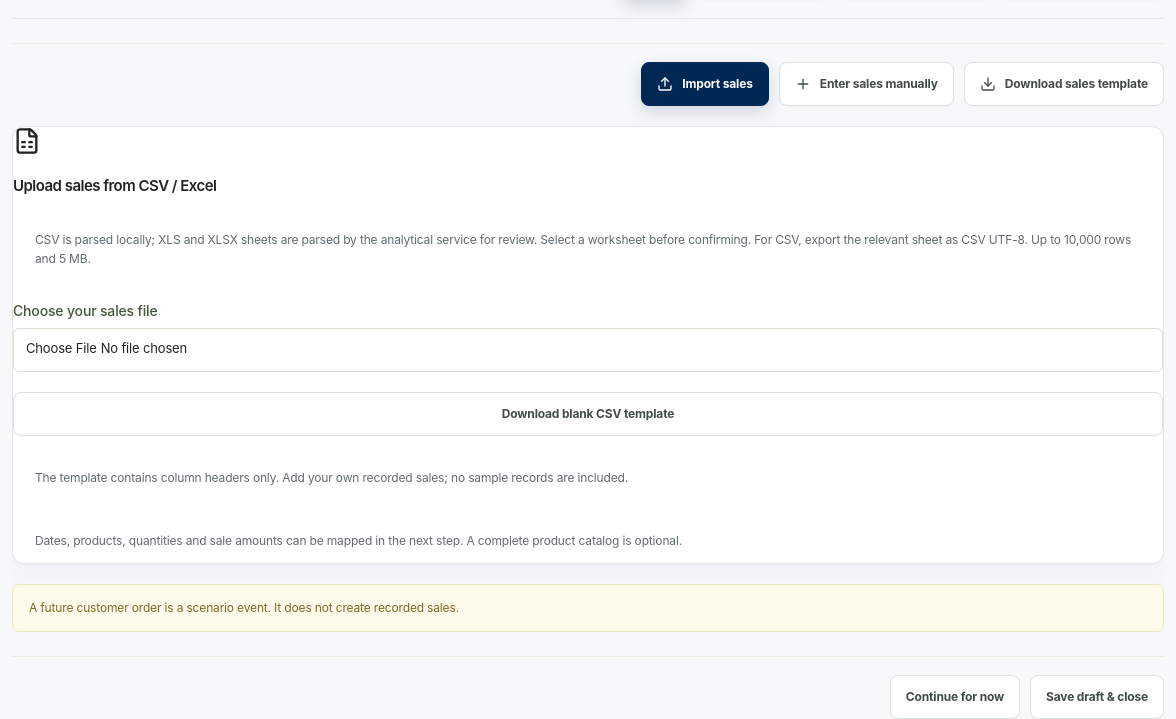
it: onboarding confirmation boundaries › defers without claiming a first analysis
(page scrolled)
Click the button "Continue for now" at (955, 697), box x1=890 y1=675 x2=1020 y2=718
(page scrolled)
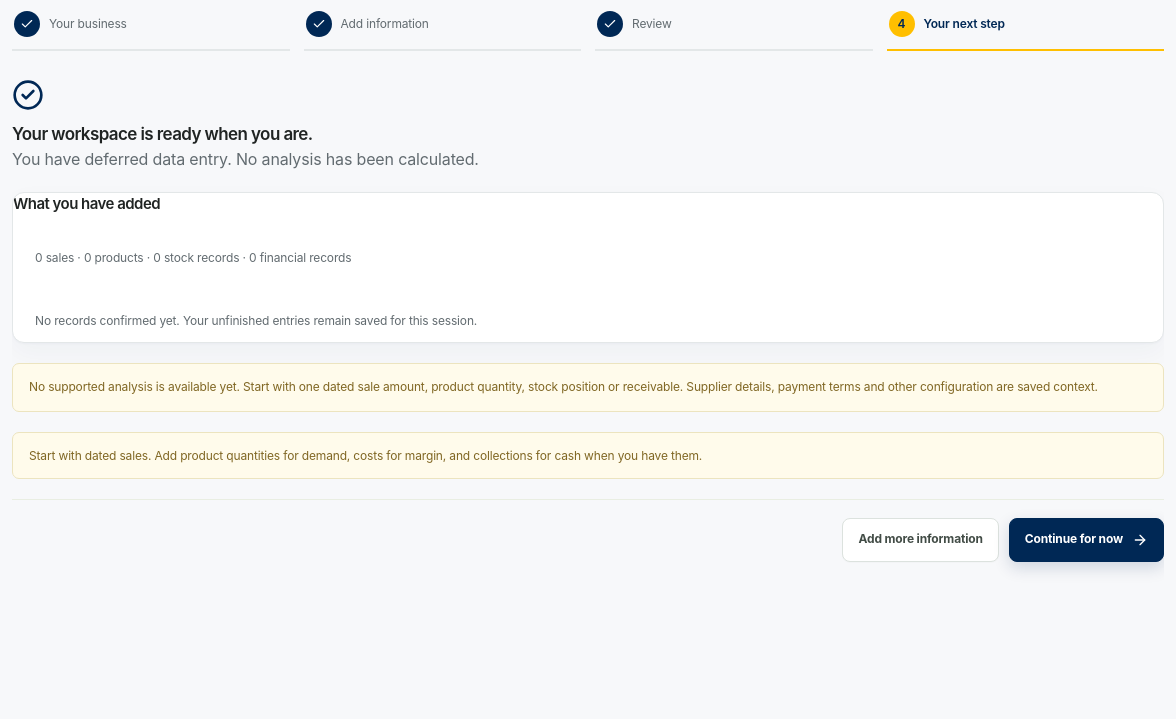
Check: the text "You have deferred data entry. No analysis has been calculated." is shown, box x1=12 y1=149 x2=479 y2=169
